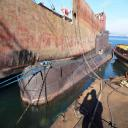submarine: (21, 31, 114, 105)
